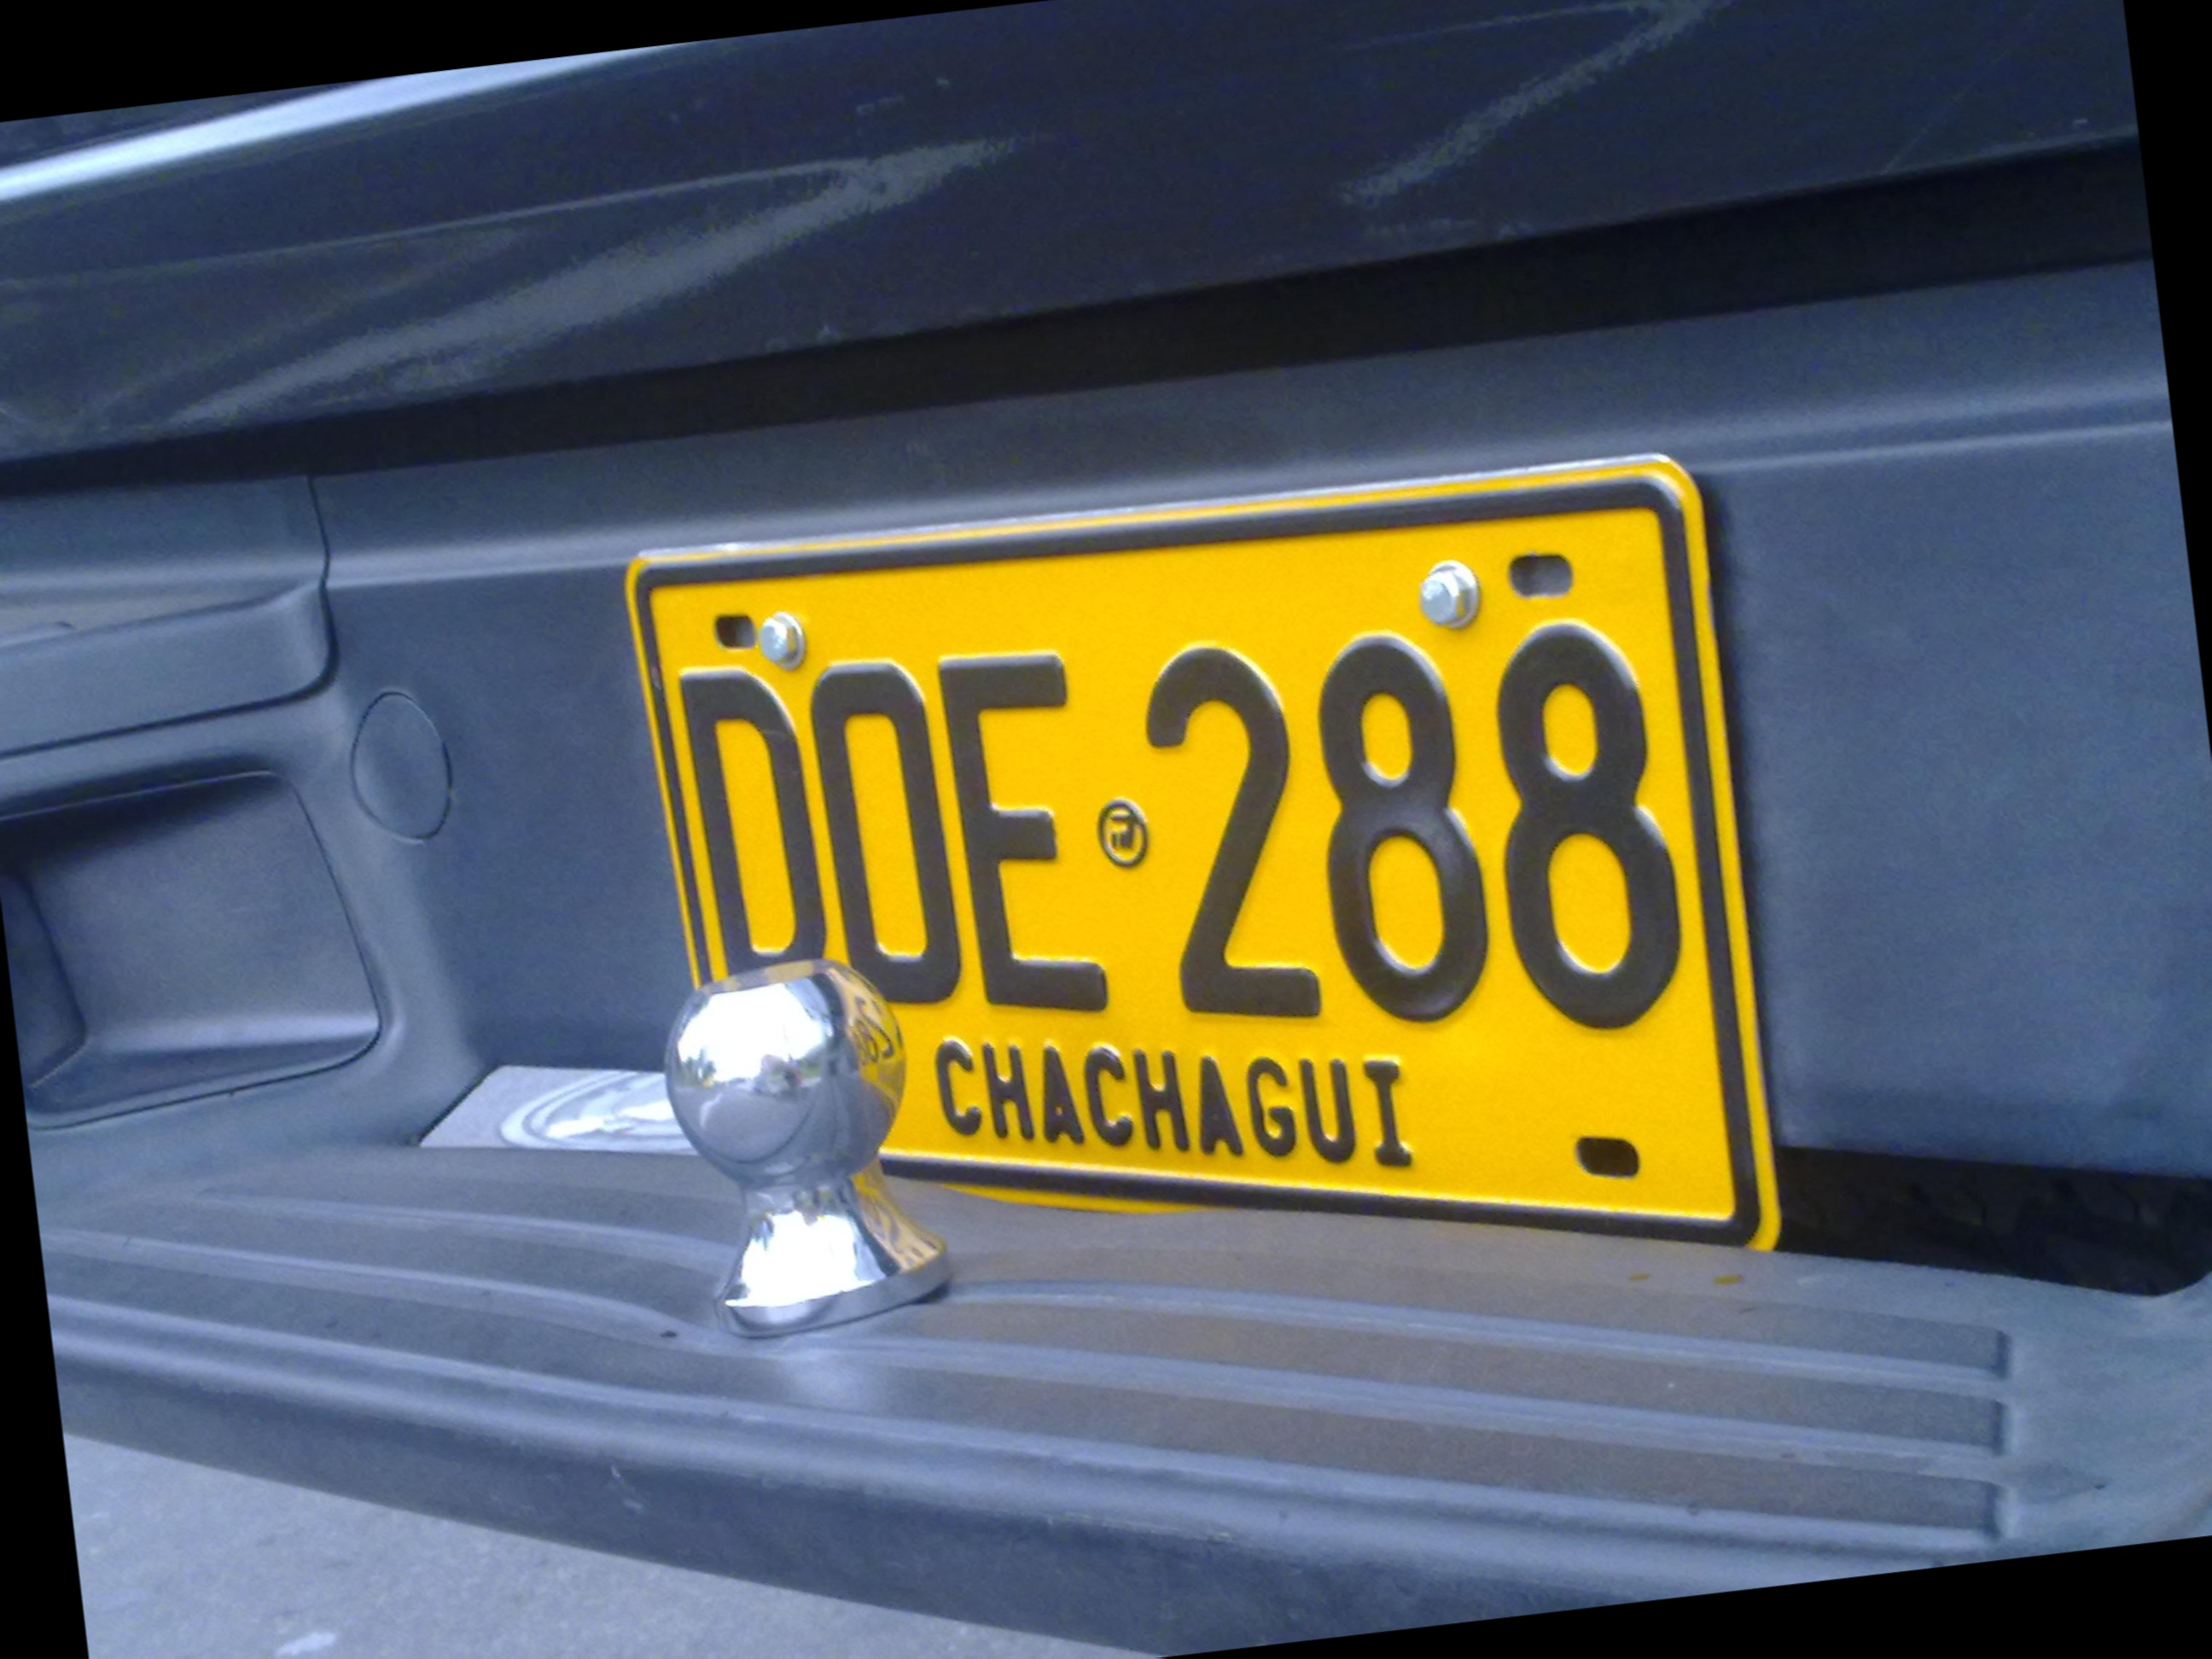placas: (607, 411, 1798, 1392)
